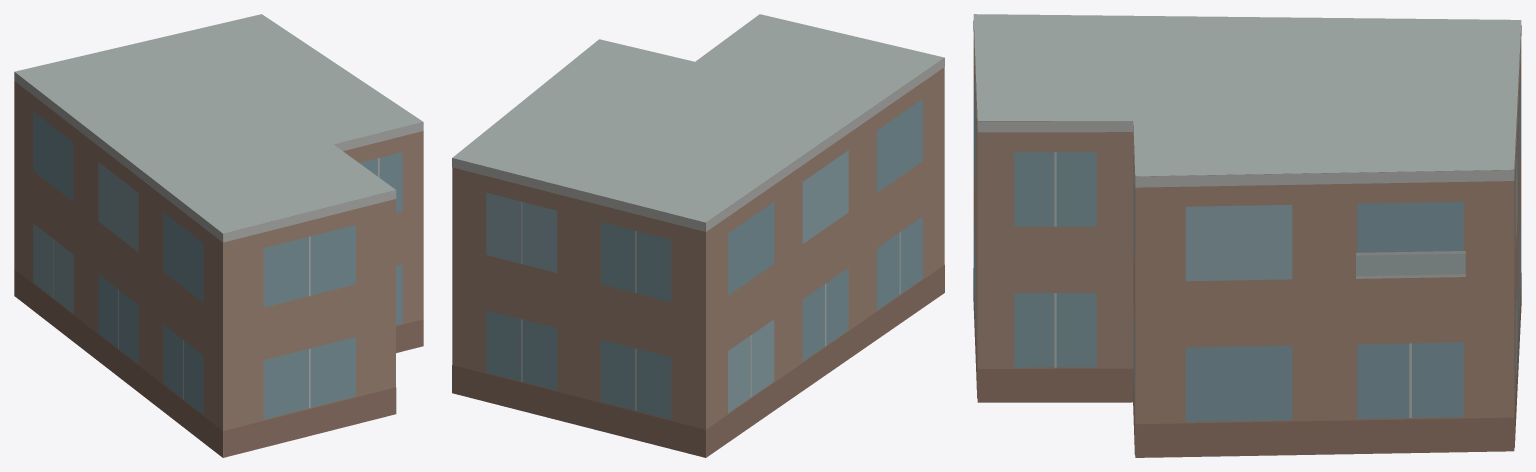
Rendered from survey-upis-32602825.glb.
3 renders of one model, left to right at view 1: azimuth 30°, elevation 25°; view 2: azimuth 150°, elevation 25°; view 3: azimuth 270°, elevation 25°, orthographic. The views are drawn at different scales.
Parts seen in each view (by area): view 1: survey-upis-32602825.tmp; view 2: survey-upis-32602825.tmp; view 3: survey-upis-32602825.tmp.
Part boxes in pixels (box(x1,y1,x2,y2)): survey-upis-32602825.tmp: box(14, 14, 423, 457); survey-upis-32602825.tmp: box(452, 14, 944, 457); survey-upis-32602825.tmp: box(973, 14, 1521, 457).
Size of the model in its own units: 7.56 by 6.1 by 10.77.
